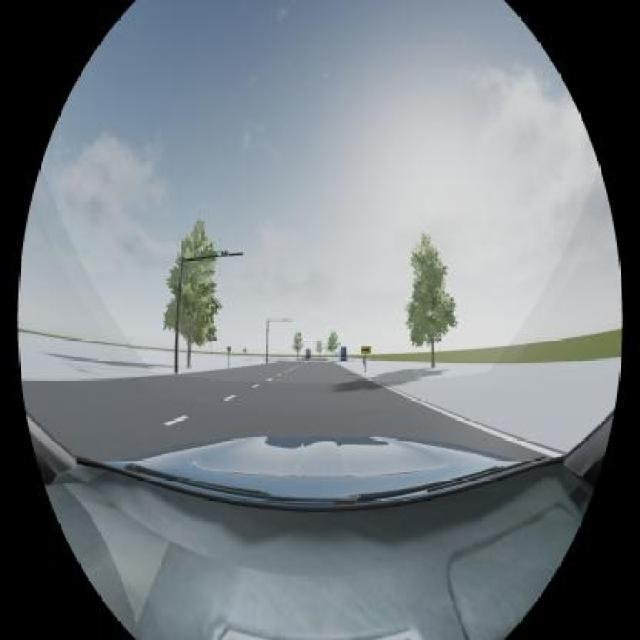forb_speed_over_30: (227, 346, 231, 352)
